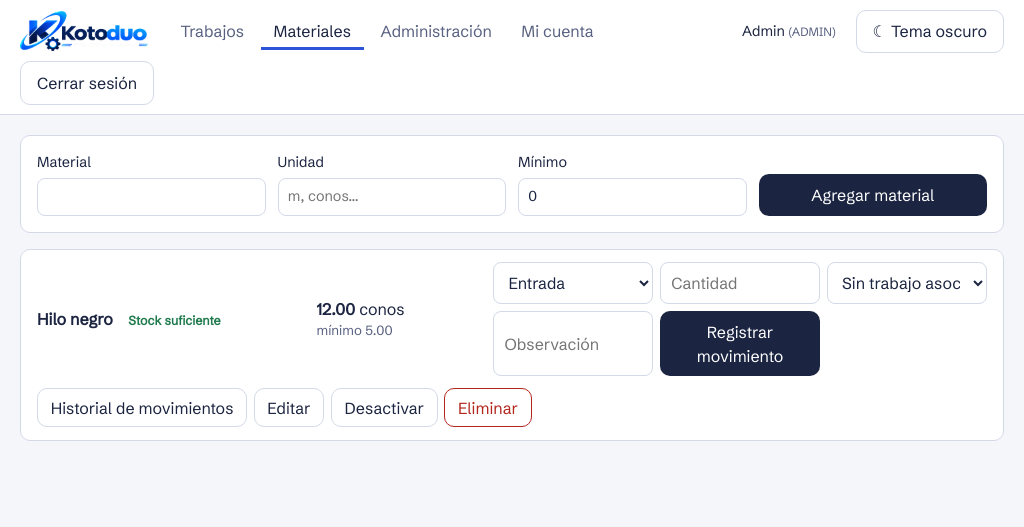
Test: App › en Materiales se puede eliminar y, si tiene movimientos, avisa y sugiere desactivar
Click the button "Eliminar". click: (488, 408)
box: [444, 388, 532, 427]
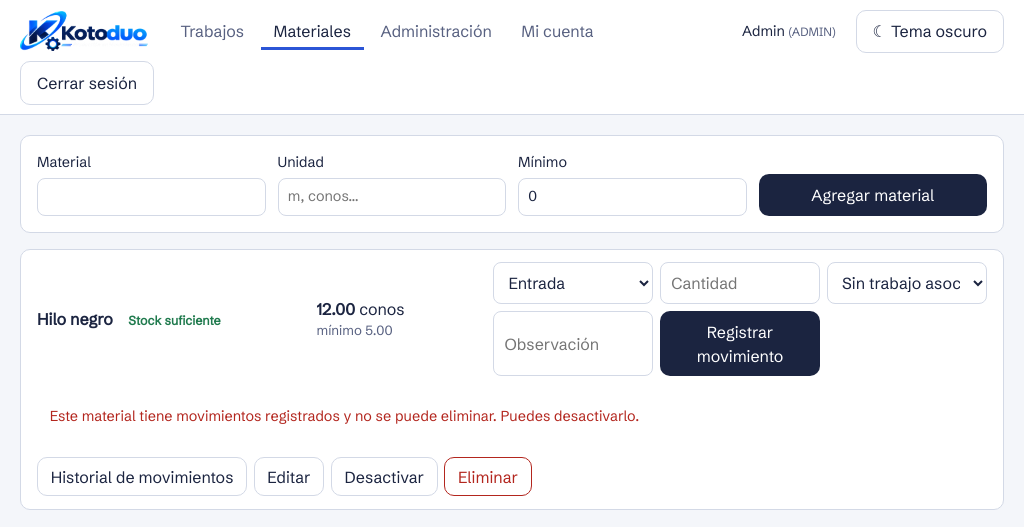
Check: the button "Desactivar" is shown, box [331, 457, 438, 496]
Check: the text "no se puede eliminar" is shown, box [50, 407, 639, 425]
